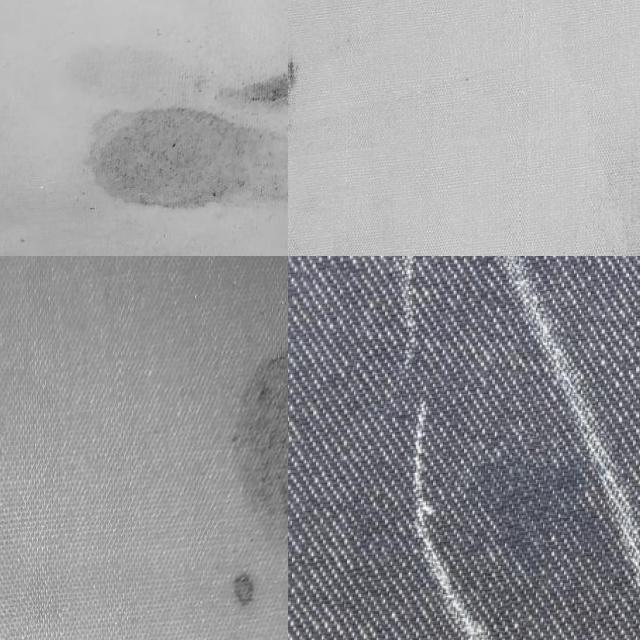Hole: (22, 54, 288, 222), (192, 319, 288, 627)
